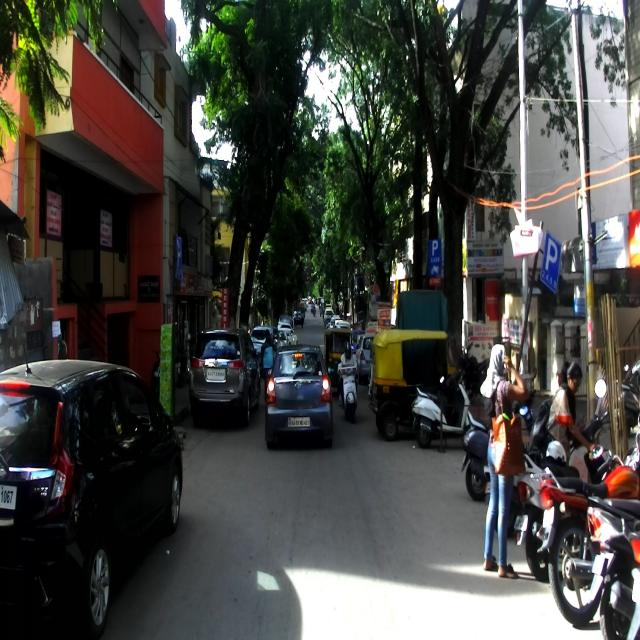autorickshaw: (368, 330, 457, 441)
car: (0, 353, 182, 640), (264, 344, 334, 451), (188, 326, 259, 426)
motorcycle: (538, 402, 640, 626), (612, 358, 640, 438)
scooter: (514, 378, 609, 582), (462, 408, 541, 498), (410, 369, 476, 448)
